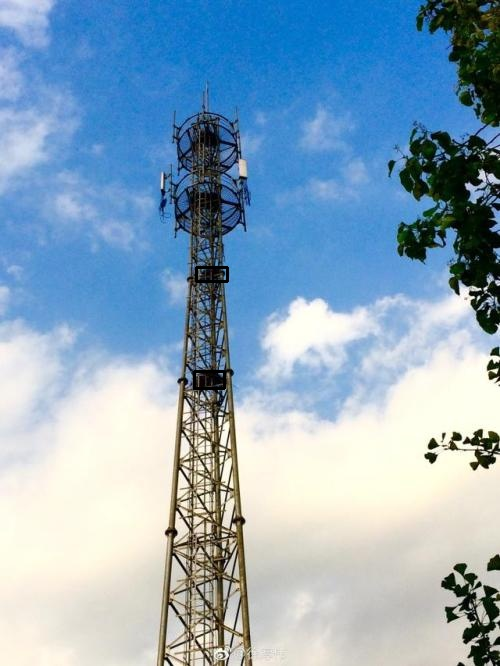bird-nest: (194, 371, 224, 388), (196, 267, 227, 281)
